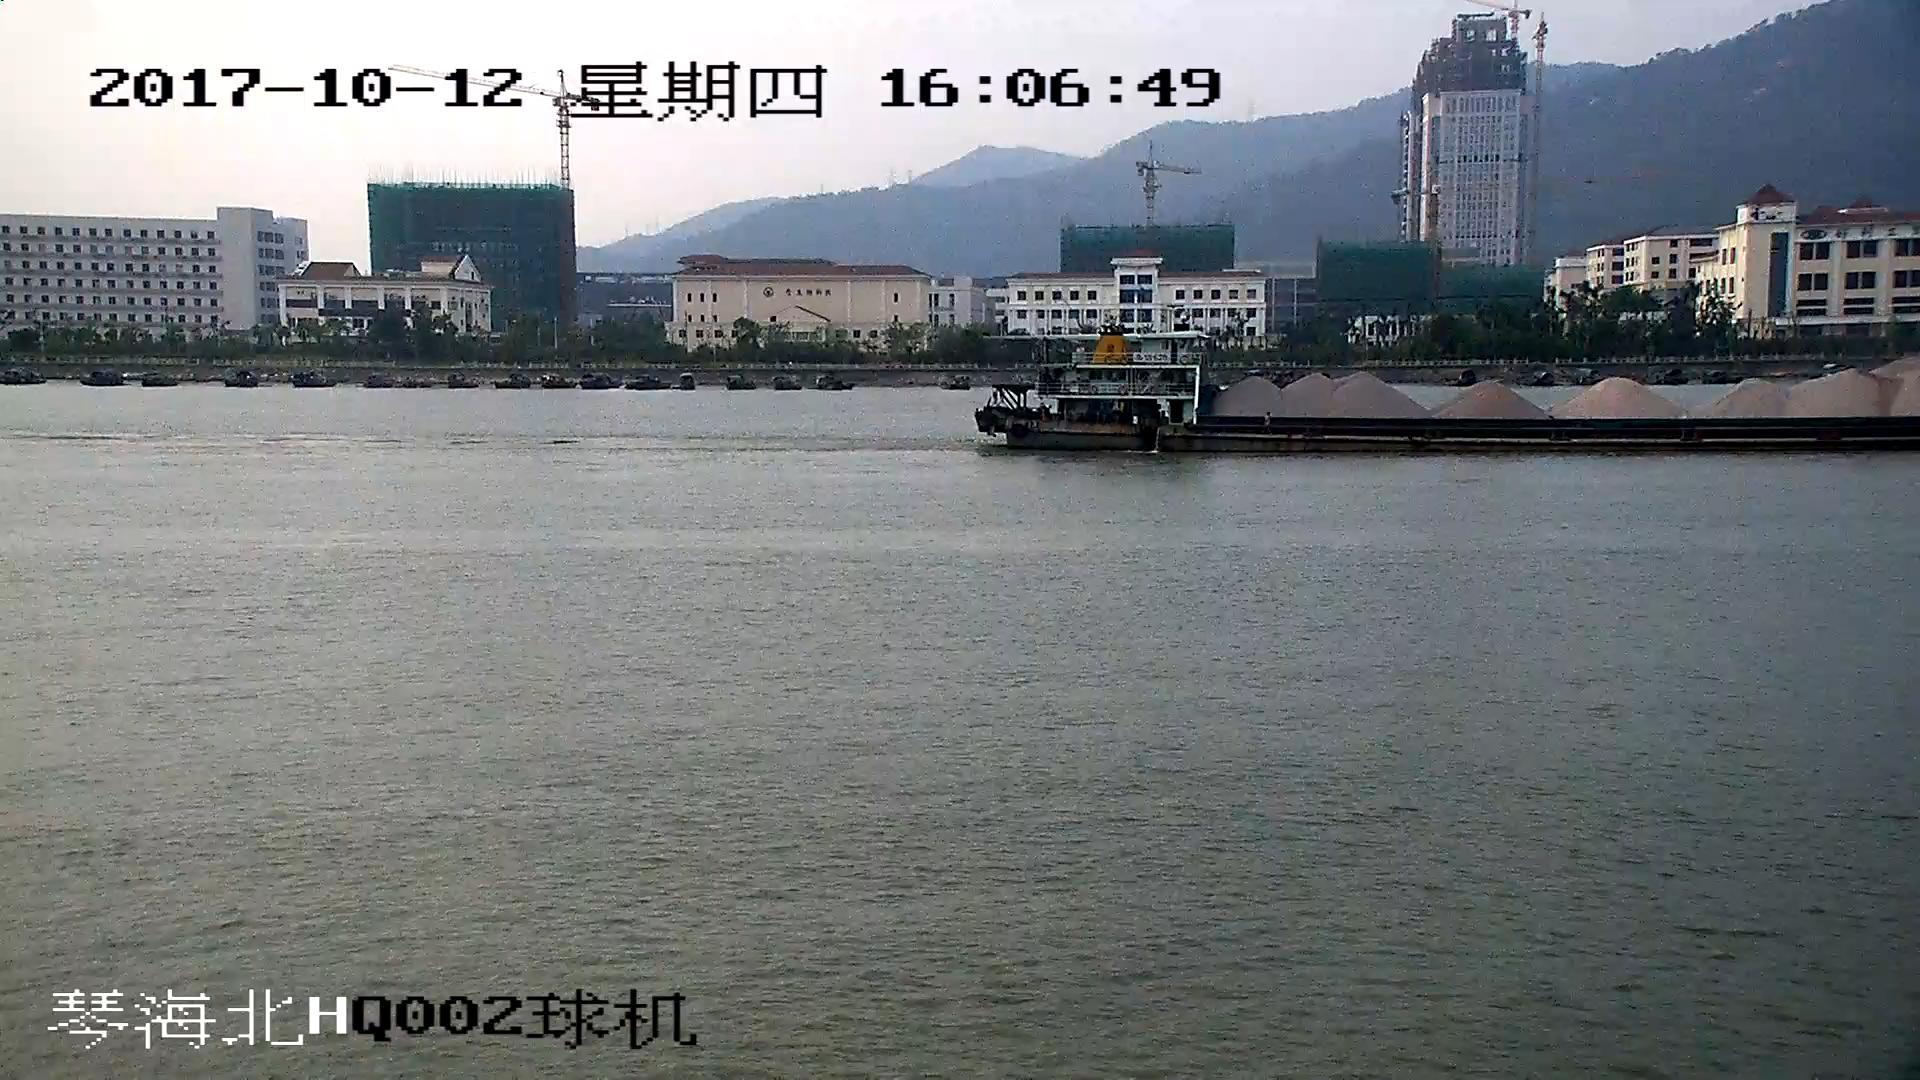Ship: (981, 338, 1920, 456)
